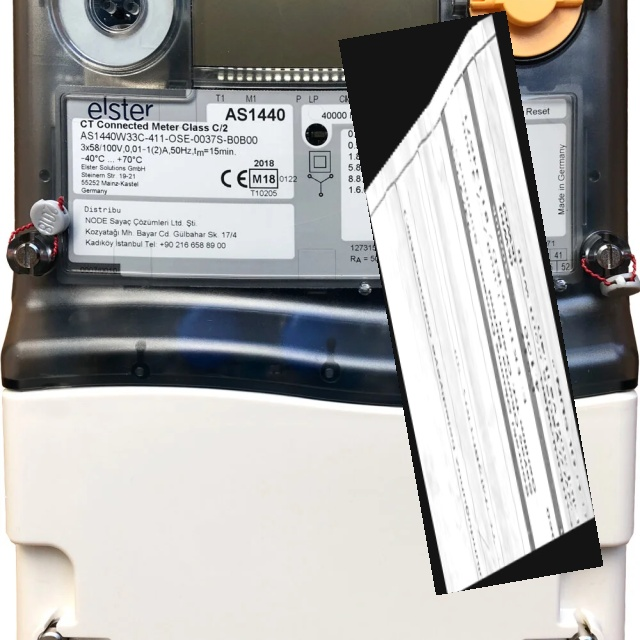electricity-bill: (338, 10, 602, 594)
